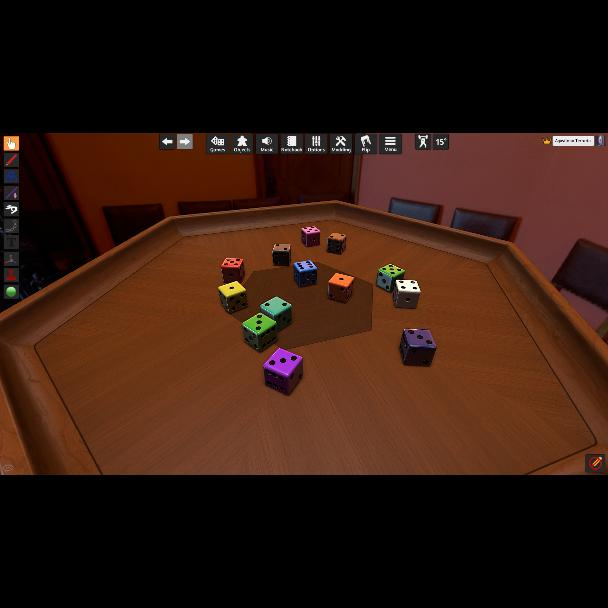d6: (263, 348, 303, 396), (242, 312, 276, 352), (402, 329, 437, 367), (260, 296, 292, 332), (218, 281, 247, 313), (328, 274, 354, 304), (376, 264, 402, 294), (392, 280, 418, 308), (292, 260, 316, 288), (221, 258, 244, 284), (272, 243, 292, 267), (326, 233, 346, 255), (302, 226, 320, 247)
